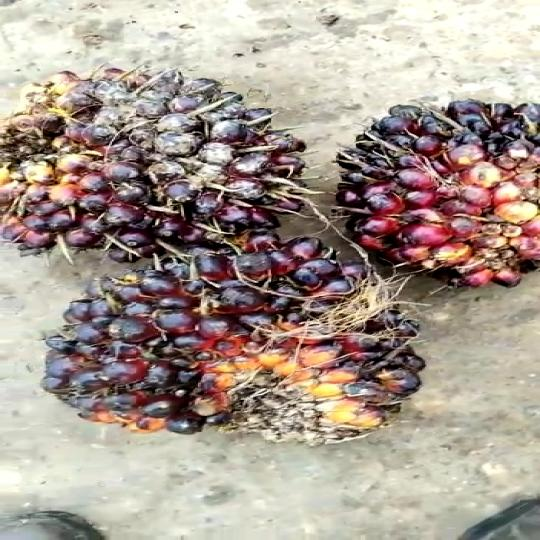kurang masak: (38, 232, 468, 463), (0, 69, 316, 267), (335, 94, 540, 306)
